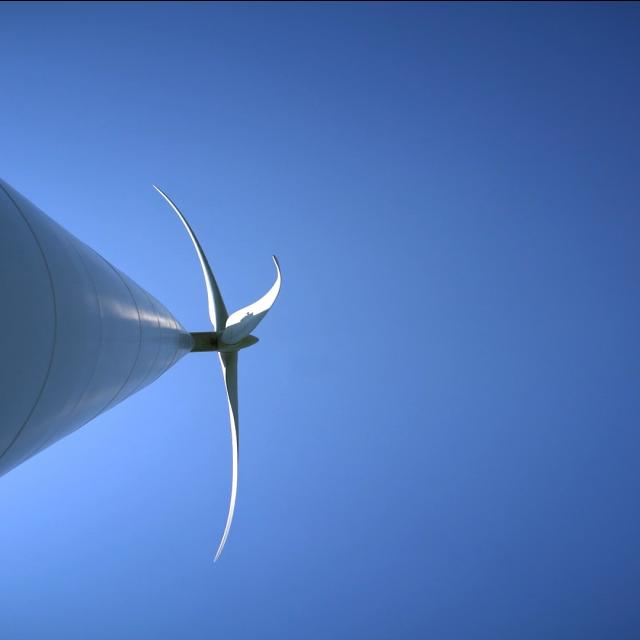blade 1: (149, 174, 229, 268)
blade 2: (190, 371, 282, 587)
blade 3: (234, 178, 290, 328)
